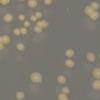white: (29, 71, 44, 84), (1, 12, 15, 25), (14, 42, 27, 55), (82, 4, 96, 16), (62, 58, 76, 70), (56, 73, 68, 87), (85, 50, 96, 65), (89, 79, 100, 93), (24, 0, 40, 9), (88, 10, 100, 22), (90, 67, 100, 81), (1, 34, 12, 46), (36, 19, 49, 29), (56, 92, 72, 100), (60, 85, 71, 96), (88, 0, 100, 10), (14, 90, 26, 100), (64, 48, 75, 58), (32, 26, 44, 35), (16, 13, 26, 23), (20, 26, 29, 37), (41, 0, 55, 7), (21, 19, 31, 28), (34, 11, 43, 20), (13, 28, 22, 37), (0, 0, 11, 7), (30, 15, 37, 23), (0, 37, 6, 45), (0, 42, 5, 51), (96, 52, 100, 62)
